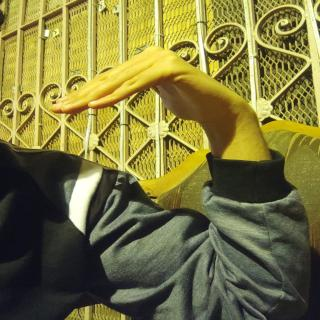HAA: (49, 39, 275, 164)
